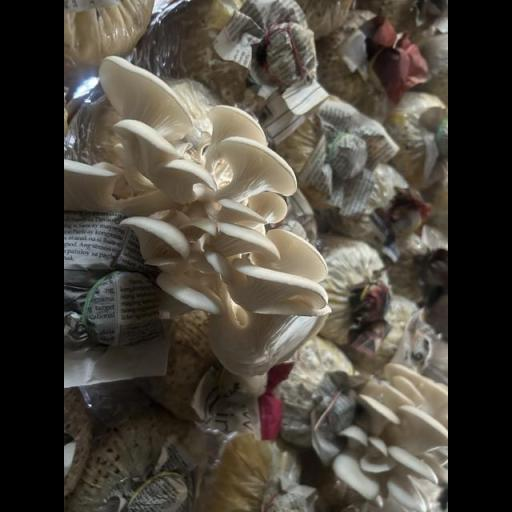White Oyster Mushroom: (81, 46, 340, 378)
